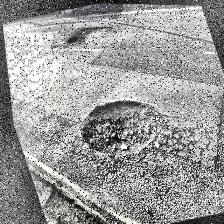pothole: (67, 88, 169, 166)
